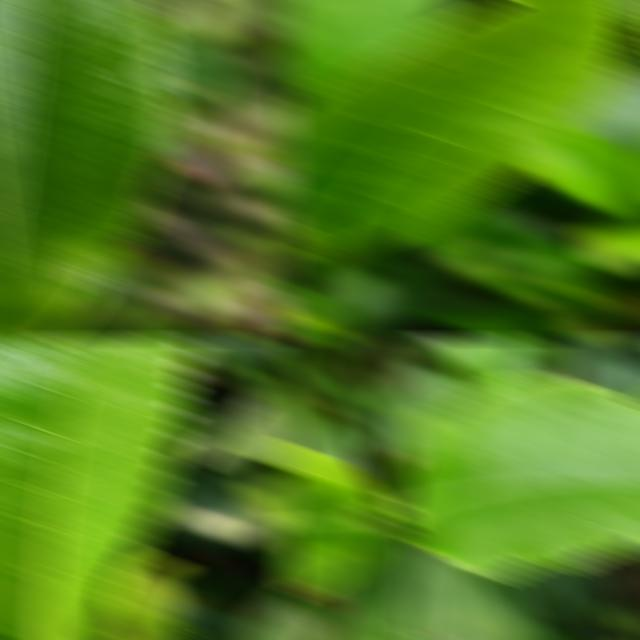Leaf: (280, 0, 628, 250), (0, 0, 180, 342), (0, 336, 199, 640), (393, 374, 640, 581), (280, 0, 459, 97), (316, 525, 419, 640), (516, 125, 640, 218), (167, 456, 280, 556), (412, 549, 529, 640), (367, 363, 472, 456), (280, 461, 375, 558), (189, 386, 296, 472), (106, 552, 191, 640), (446, 336, 531, 398), (197, 336, 287, 380), (237, 591, 296, 640)
